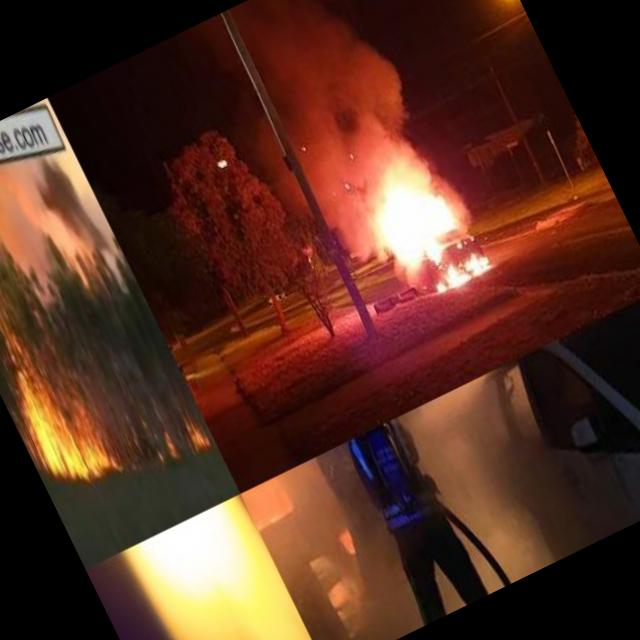fire: (96, 493, 327, 640), (348, 144, 492, 310), (0, 320, 125, 505), (130, 388, 219, 482)
smoke: (194, 0, 437, 214), (0, 148, 129, 311)
